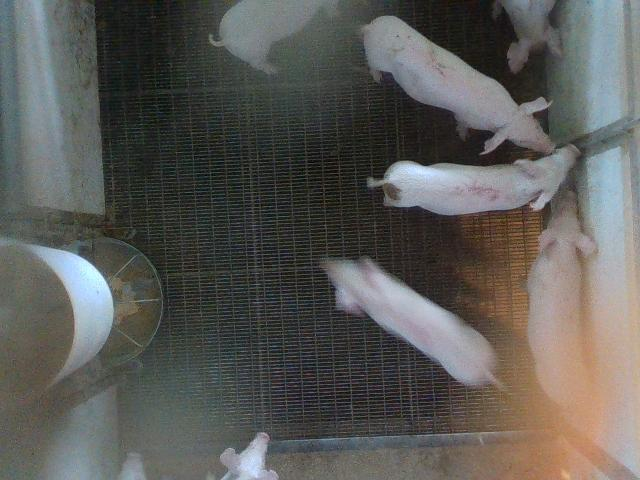pig-5: (368, 144, 580, 215)
